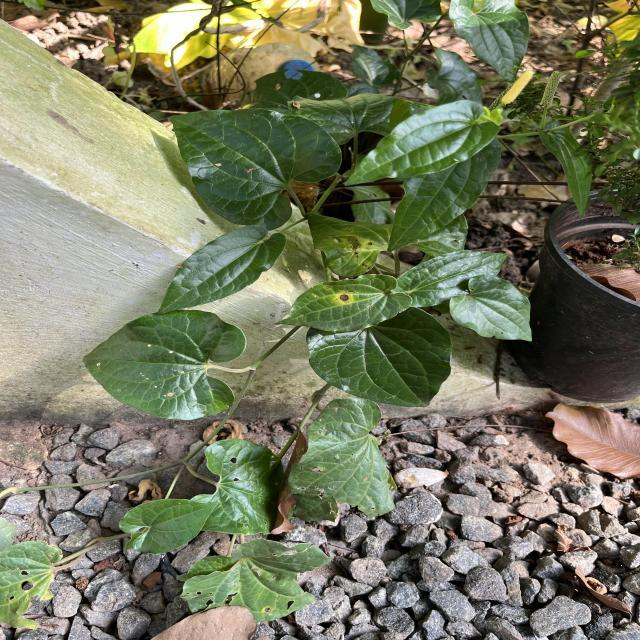Piper longum: (166, 106, 345, 232), (80, 308, 250, 422), (304, 304, 454, 408), (156, 223, 288, 315), (117, 497, 223, 557), (448, 272, 534, 344)
